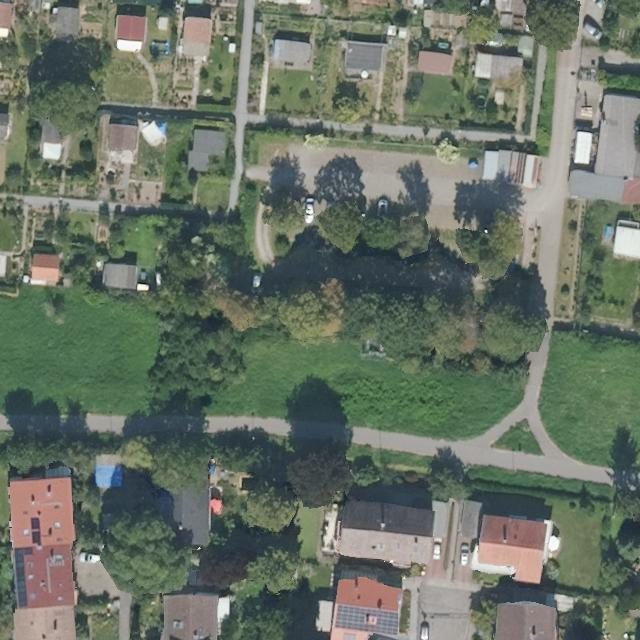PV: (331, 605, 400, 638), (12, 546, 34, 610)
